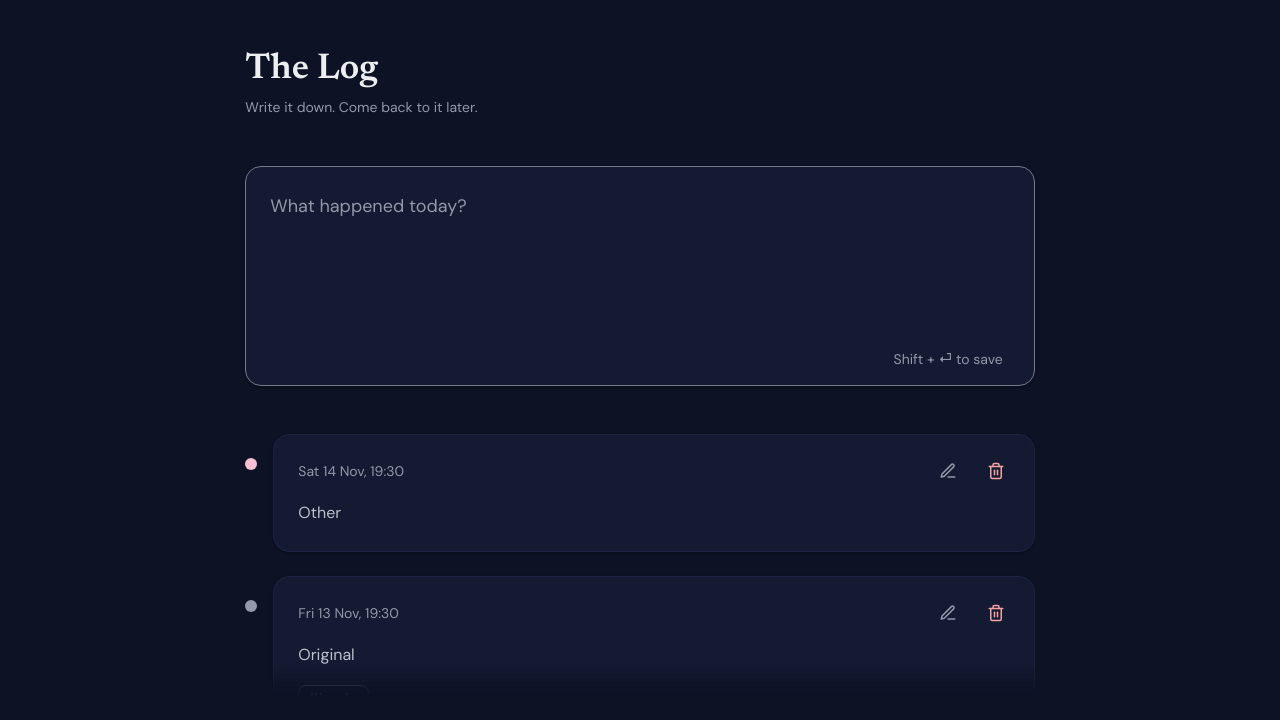
keeps the thought and says so when the storage write fails on delete
Click the button named "Delete thought, Fri 13 Nov, 19:30".
click(996, 613)  # box left=974, top=591, right=1018, bottom=635
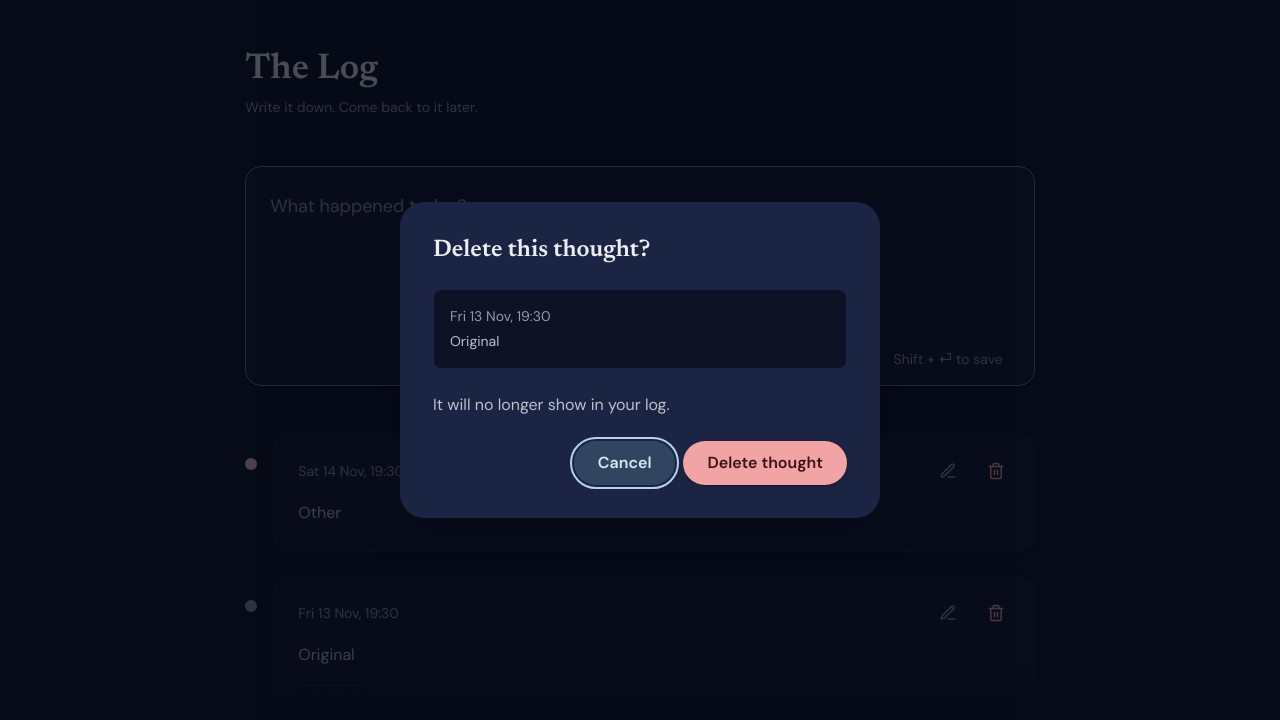
Click the button "Delete thought".
click(765, 463)  # box left=684, top=441, right=847, bottom=485
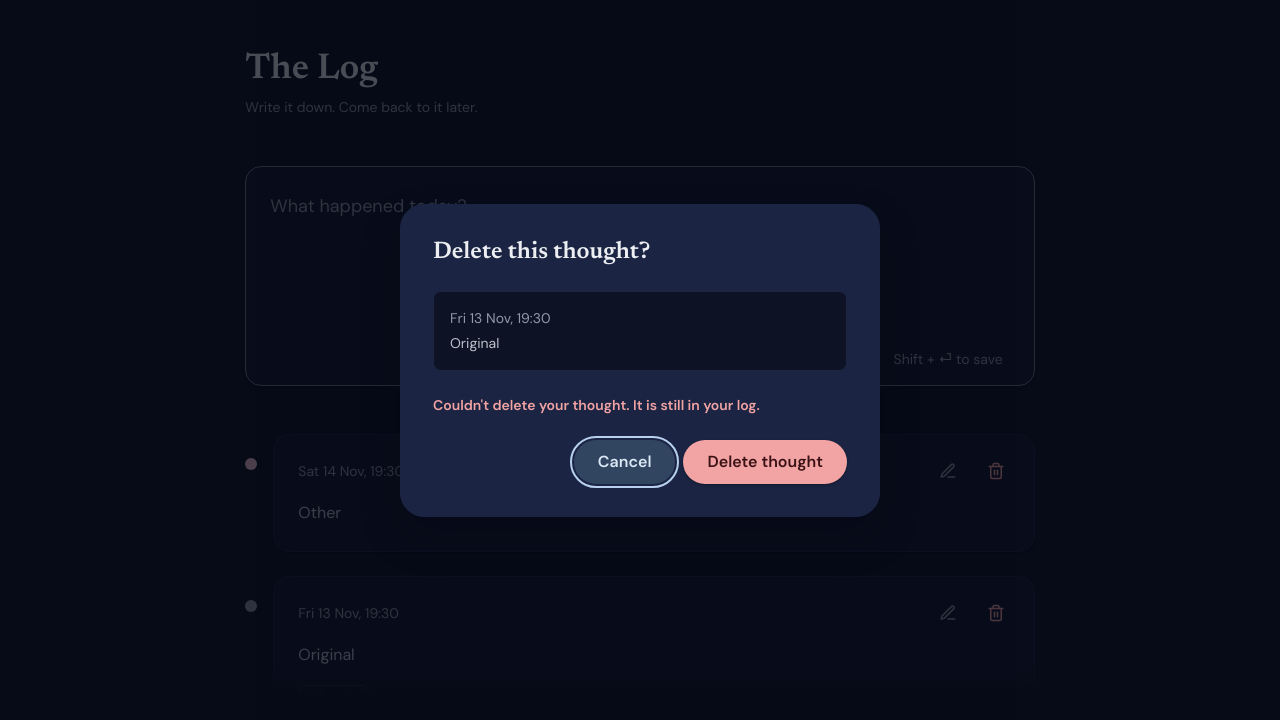
Result: the message "Couldn't delete your thought. It is still in your log." is shown at left=433, top=396, right=760, bottom=414
Result: the text with class "delete-dialog" no longer shows "It will no longer show in your log."
